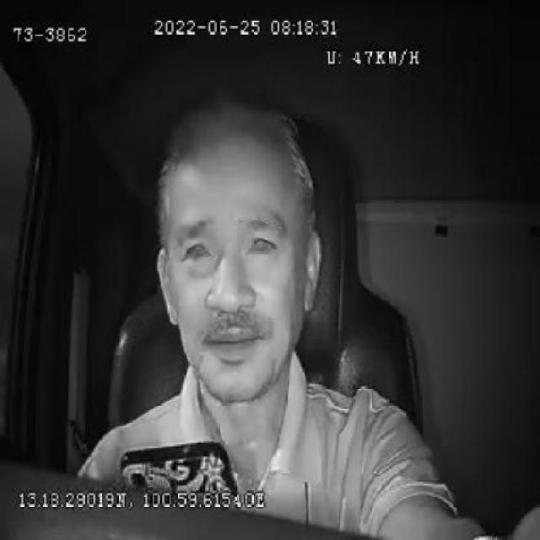phone: (120, 442, 237, 490)
